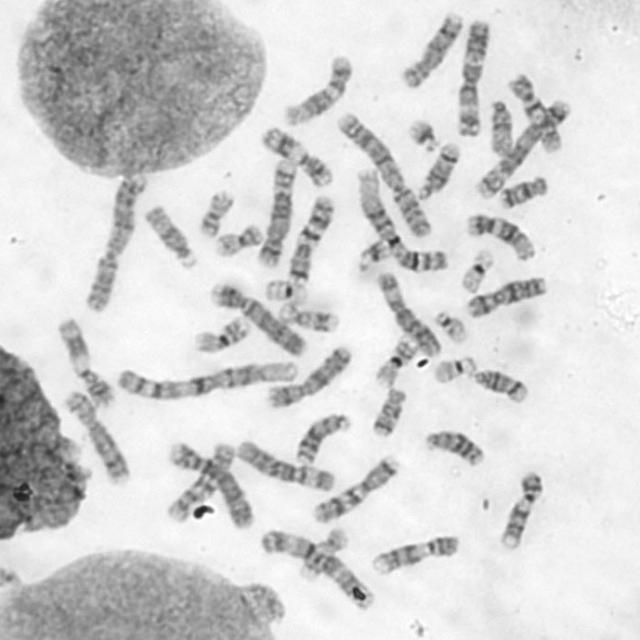A1: (354, 164, 452, 274), (115, 356, 301, 403)
A2: (335, 110, 434, 241), (84, 168, 148, 314)
A3: (254, 529, 379, 614), (454, 16, 490, 140)
B4: (164, 438, 256, 532), (208, 281, 308, 357)
B5: (476, 99, 573, 200), (256, 156, 296, 268)
C10: (160, 438, 238, 524), (502, 70, 564, 154)
C11: (55, 316, 117, 406), (261, 123, 335, 191)
C12: (282, 54, 357, 126), (466, 212, 538, 262)
C6: (374, 271, 444, 360), (234, 440, 337, 495)
C7: (310, 452, 400, 526), (286, 190, 338, 286)
C8: (62, 390, 133, 488), (396, 14, 465, 90)
C9: (498, 467, 549, 552), (369, 534, 460, 578)
D13: (420, 426, 488, 469), (296, 413, 351, 465)
D14: (415, 142, 463, 202), (466, 366, 534, 407)
D15: (144, 204, 200, 271), (488, 98, 516, 157)
E16: (371, 330, 419, 392), (190, 314, 253, 355)
E17: (293, 524, 353, 586), (277, 298, 341, 334)
E18: (495, 173, 548, 211), (371, 384, 406, 438)
F19: (456, 247, 499, 295), (263, 278, 310, 308)
F20: (212, 222, 265, 261), (200, 185, 237, 236)
G21: (408, 118, 440, 154), (358, 239, 393, 271)
G22: (435, 354, 477, 385), (432, 309, 468, 344)
X: (268, 345, 351, 411), (464, 273, 547, 321)
